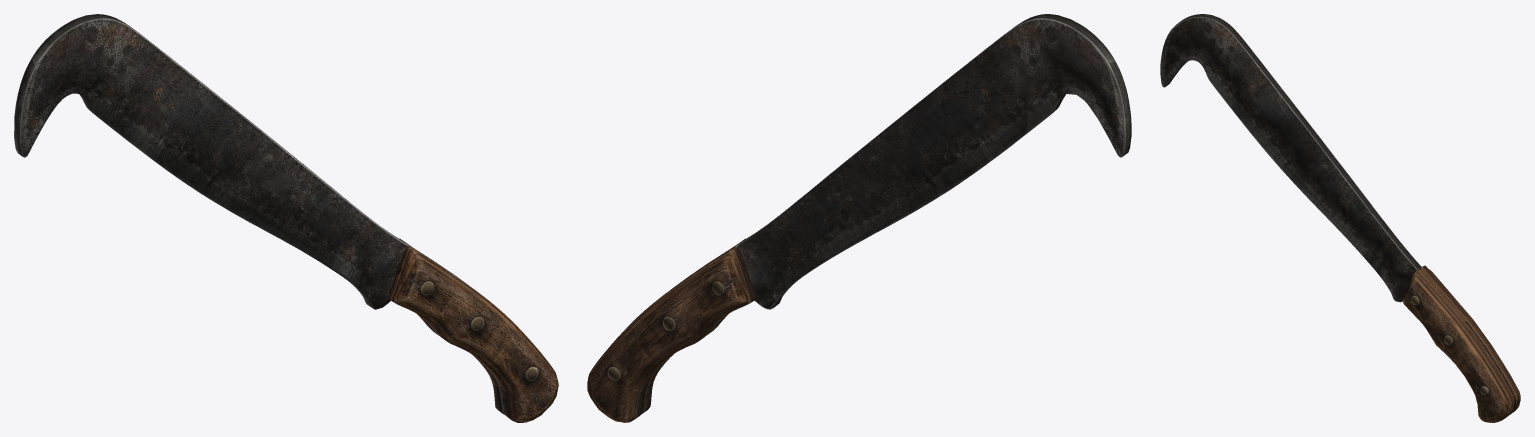
Rendered from machete.glb.
3 renders of one model, left to right at view 1: azimuth 30°, elevation 25°; view 2: azimuth 150°, elevation 25°; view 3: azimuth 330°, elevation 25°, orthographic. The views are drawn at different scales.
Visible parts, largest first — view 1: Model; view 2: Model; view 3: Model.
Part boxes in pixels (box(x1,y1,x2,y2)): Model: box(14, 14, 558, 422); Model: box(587, 14, 1131, 422); Model: box(1160, 14, 1520, 422).
Size of the model in its own units: 1.9 by 1.72 by 0.1814.
1 material, 1 textured.
